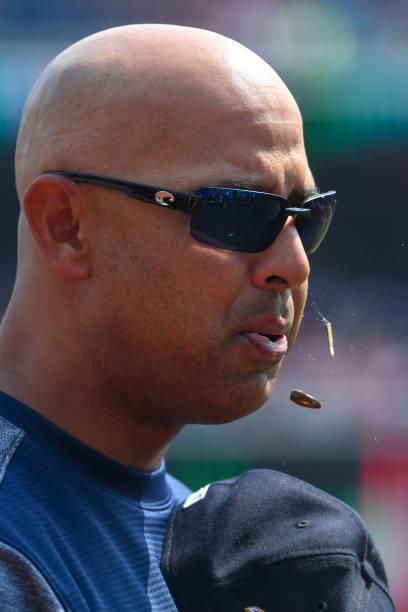Spitting: (0, 3, 408, 447)
